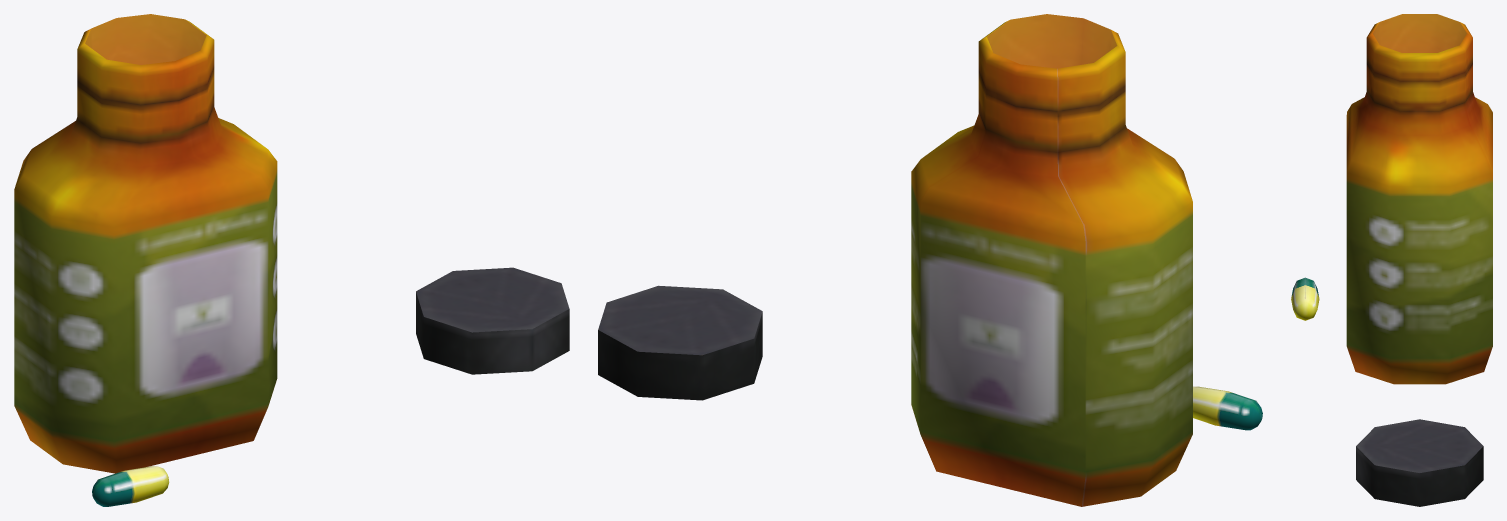
The model's file is XiuXiShi_01_yaoping_01.FBX.
3 renders of one model, left to right at view 1: azimuth 30°, elevation 25°; view 2: azimuth 150°, elevation 25°; view 3: azimuth 270°, elevation 25°, orthographic. The views are drawn at different scales.
Parts seen in each view (by area): view 1: XiuXiShi_yaoping01; view 2: XiuXiShi_yaoping01; view 3: XiuXiShi_yaoping01.
Part boxes in pixels (box(x1,y1,x2,y2)): XiuXiShi_yaoping01: box(14, 14, 569, 506); XiuXiShi_yaoping01: box(598, 14, 1262, 506); XiuXiShi_yaoping01: box(1291, 14, 1492, 506).
Bounding box in the file's own units: 113 × 77.56 × 45.38.
